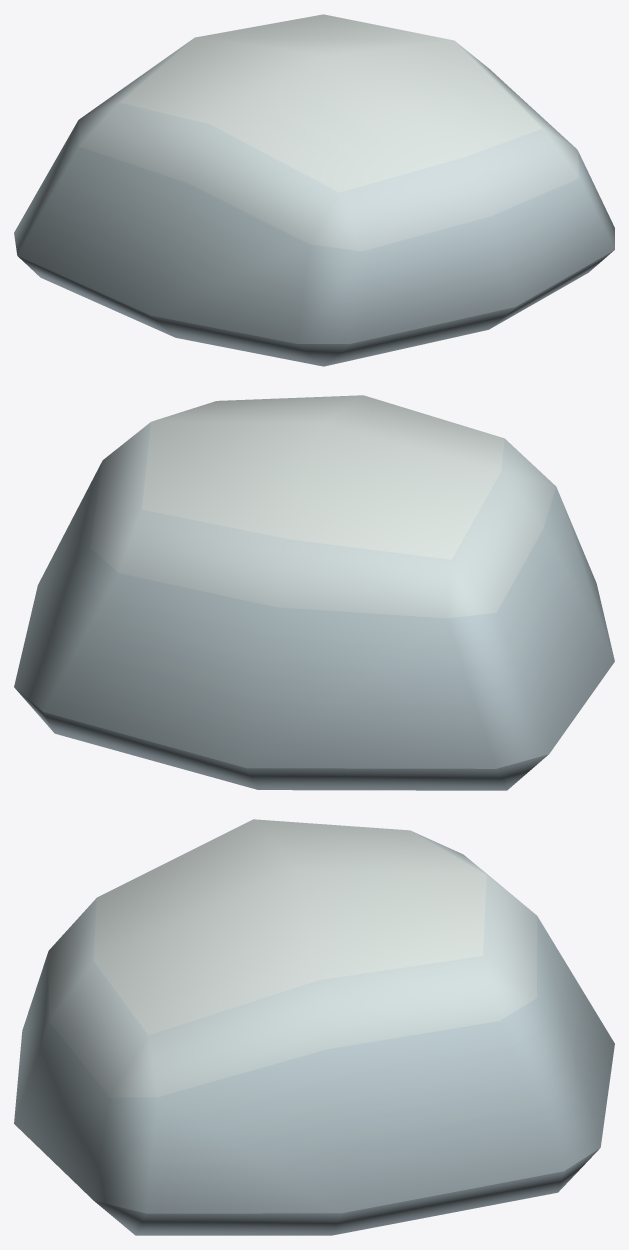
The model's file is rock_snow_02.fbx.
3 views of the same model, one above another, from view 1: azimuth 30°, elevation 25°; view 2: azimuth 150°, elevation 25°; view 3: azimuth 270°, elevation 25° (orthographic). The views are drawn at different scales.
Parts seen in each view (by area): view 1: rock_snow_02; view 2: rock_snow_02; view 3: rock_snow_02.
Boxes of the visible parts, <box> form: rock_snow_02: <box>14,14,614,366</box>; rock_snow_02: <box>14,395,614,790</box>; rock_snow_02: <box>14,819,614,1235</box>.
Bounding box in the file's own units: 67.43 × 28.93 × 62.29.
1 material, 1 textured.
